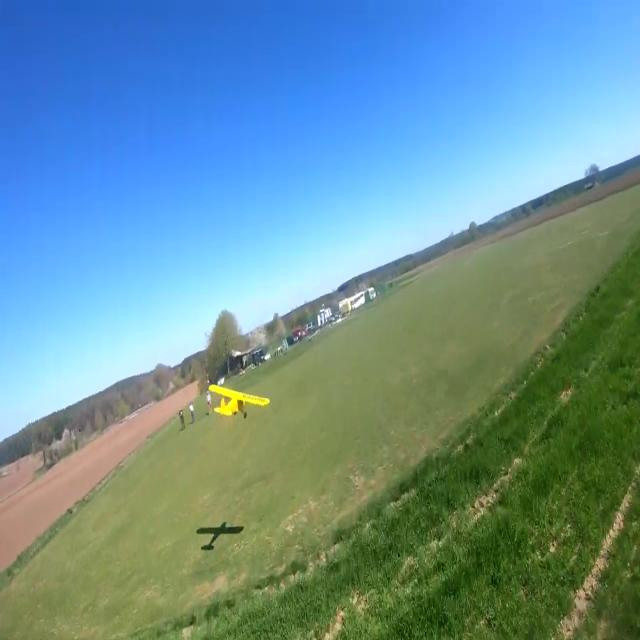iha: (207, 384, 271, 420)
